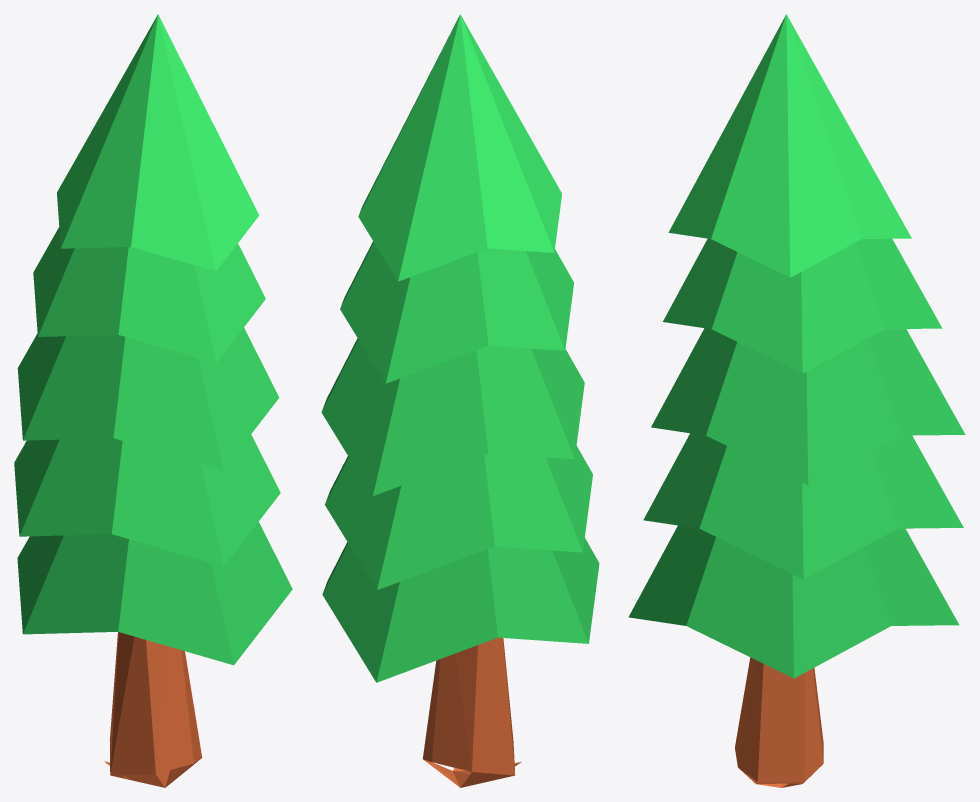
File: tree9.gltf
3 renders of one model, left to right at view 1: azimuth 30°, elevation 25°; view 2: azimuth 150°, elevation 25°; view 3: azimuth 270°, elevation 25°, orthographic.
Parts seen in each view (by area): view 1: Cone, Cone.003, Cone.001, Cone.002, Cone.005, Cube; view 2: Cone, Cone.003, Cone.001, Cone.002, Cone.005, Cube; view 3: Cone, Cone.003, Cone.001, Cone.002, Cone.005, Cube.
Part boxes in pixels (<box>): Cone: <box>57,14,259,271</box>; Cone.003: <box>17,328,279,469</box>; Cone.001: <box>17,522,292,665</box>; Cone.002: <box>14,434,280,566</box>; Cone.005: <box>33,227,265,362</box>; Cube: <box>104,632,202,787</box>; Cone: <box>358,14,561,281</box>; Cone.003: <box>321,338,584,495</box>; Cone.001: <box>322,538,599,682</box>; Cone.002: <box>325,446,592,589</box>; Cone.005: <box>340,241,573,383</box>; Cube: <box>423,637,521,787</box>; Cone: <box>668,14,911,277</box>; Cone.003: <box>651,328,965,485</box>; Cone.001: <box>628,525,959,678</box>; Cone.002: <box>643,433,963,579</box>; Cone.005: <box>663,238,942,373</box>; Cube: <box>735,657,823,787</box>.
Size of the model in its own units: 2.1 by 5.89 by 2.33.
